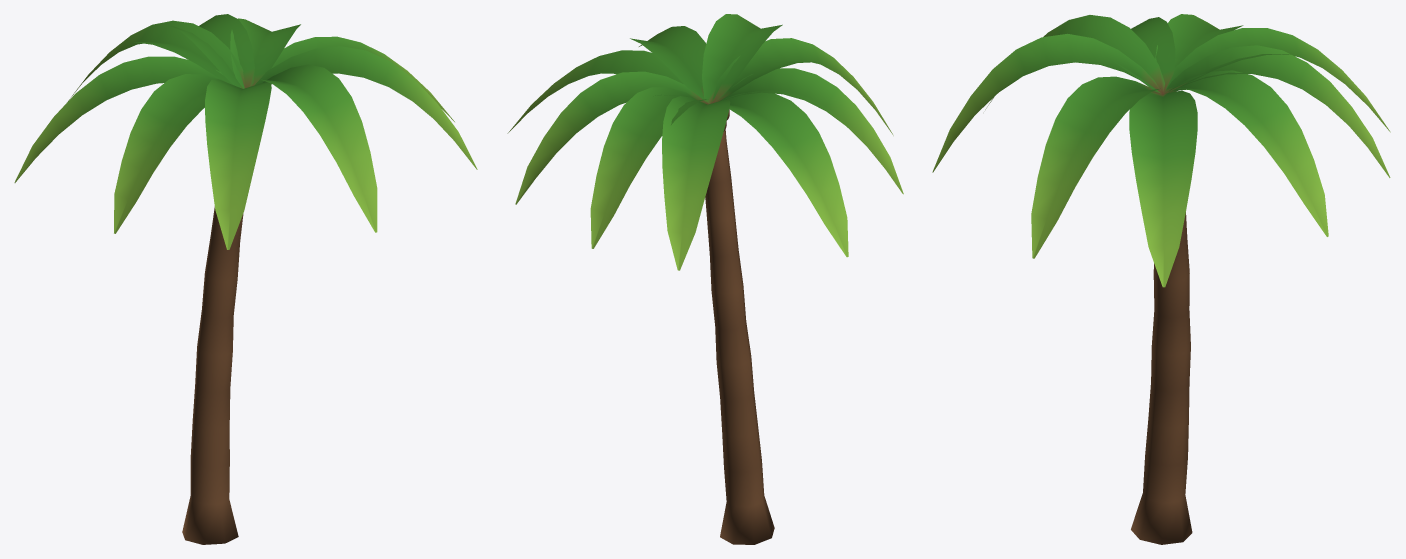
The model's file is palmier.glb.
3 views of the same model, side by side, from view 1: azimuth 30°, elevation 25°; view 2: azimuth 150°, elevation 25°; view 3: azimuth 270°, elevation 25° (orthographic). The views are drawn at different scales.
Parts seen in each view (by area): view 1: palmier; view 2: palmier; view 3: palmier.
Part boxes in pixels (x1,y1,x2,y2): palmier: (14, 14, 477, 544); palmier: (507, 14, 903, 544); palmier: (932, 14, 1390, 544).
Bounding box in the file's own units: 3.75 × 4.35 × 3.56.
